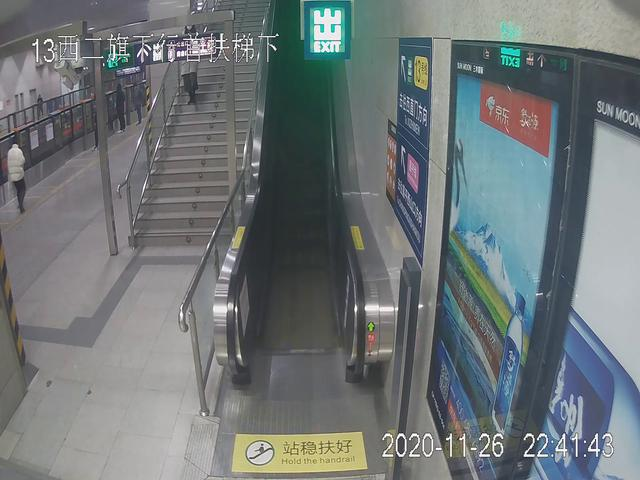person: (179, 22, 199, 109), (8, 136, 26, 212), (114, 77, 125, 130)
